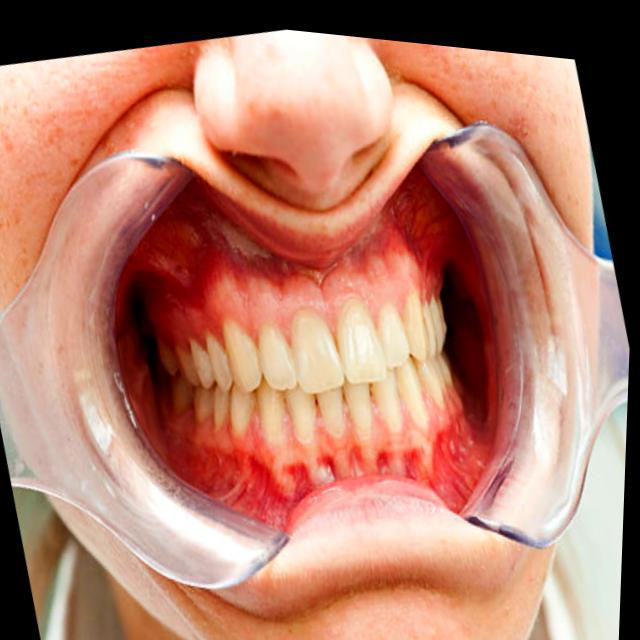gingivitis: (168, 397, 483, 520), (141, 244, 444, 348)
